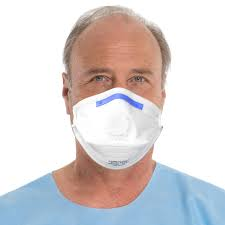flumask: (71, 94, 159, 163)
